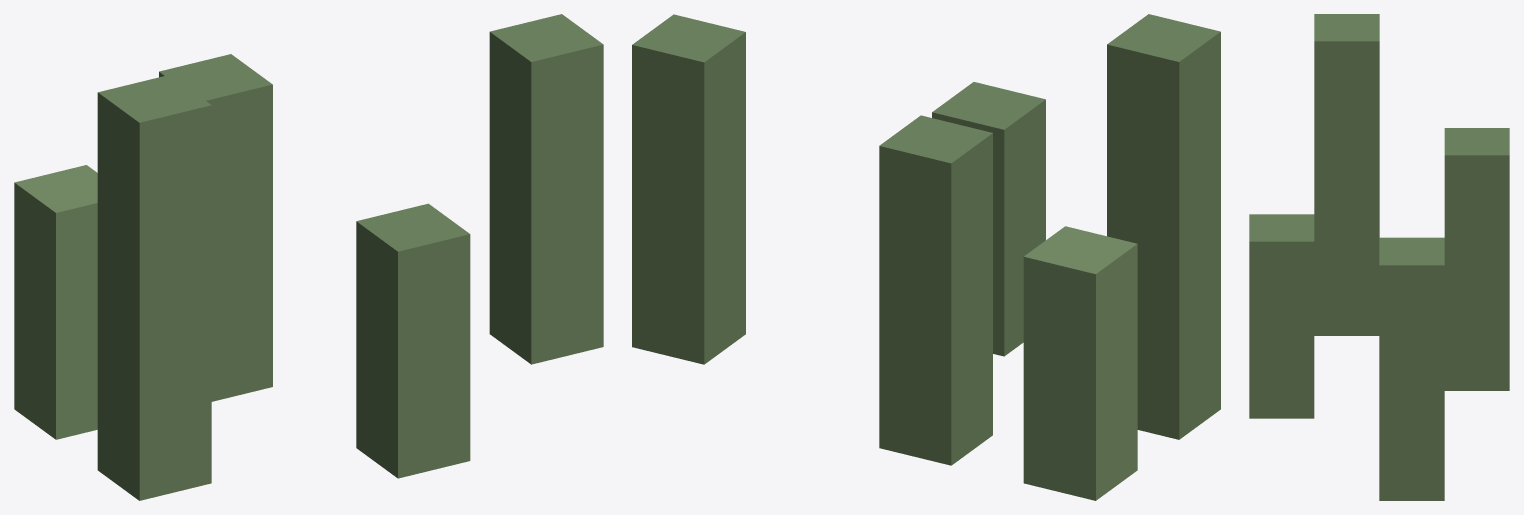
Rendered from musgo_03.glb.
3 views of the same model, side by side, from view 1: azimuth 30°, elevation 25°; view 2: azimuth 150°, elevation 25°; view 3: azimuth 270°, elevation 25° (orthographic). The views are drawn at different scales.
Parts seen in each view (by area): view 1: musgo_03; view 2: musgo_03; view 3: musgo_03.
Part boxes in pixels (box(x1,y1,x2,y2)): musgo_03: box(14, 14, 603, 500); musgo_03: box(632, 14, 1220, 500); musgo_03: box(1249, 14, 1509, 500).
Size of the model in its own units: 0.7 by 0.5 by 0.4.
